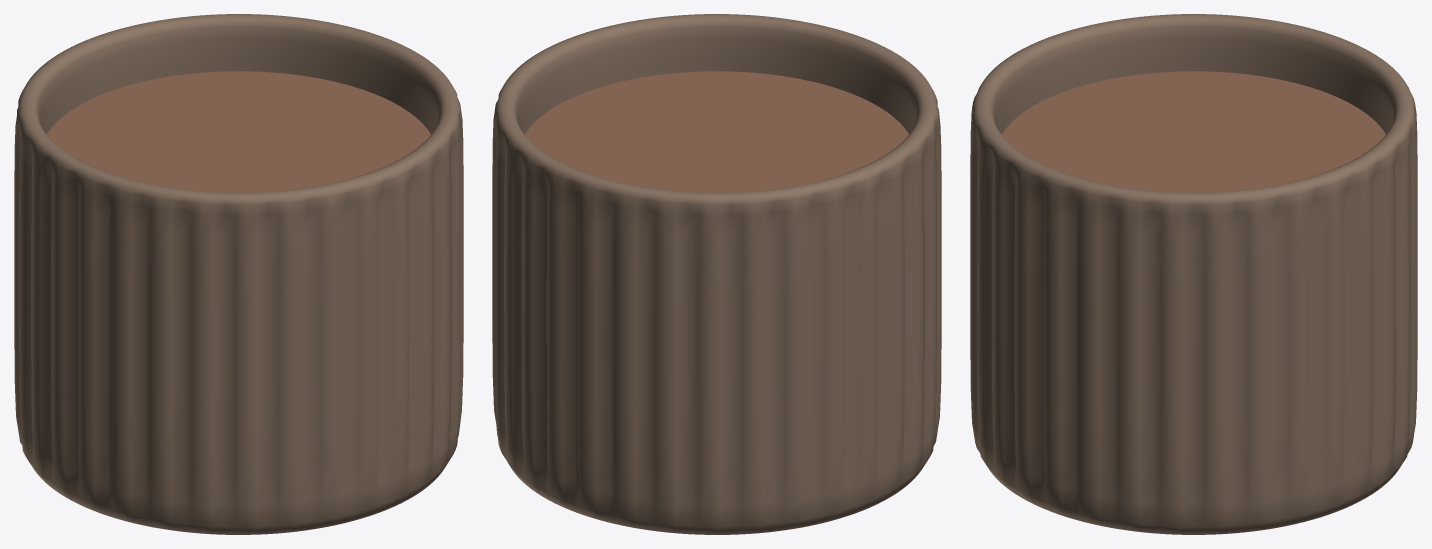
File: fluted_brown.glb
3 views of the same model, side by side, from view 1: azimuth 30°, elevation 25°; view 2: azimuth 150°, elevation 25°; view 3: azimuth 270°, elevation 25° (orthographic).
Parts seen in each view (by area): view 1: Circle.011, Circle.010; view 2: Circle.011, Circle.010; view 3: Circle.011, Circle.010.
Boxes of the visible parts, bbox=[...] form: Circle.011: bbox=[14, 14, 463, 534]; Circle.010: bbox=[47, 71, 430, 192]; Circle.011: bbox=[492, 14, 941, 534]; Circle.010: bbox=[525, 71, 908, 192]; Circle.011: bbox=[970, 14, 1417, 534]; Circle.010: bbox=[1002, 71, 1385, 192].
Bounding box in the file's own units: 11.66 × 9.97 × 11.66.
